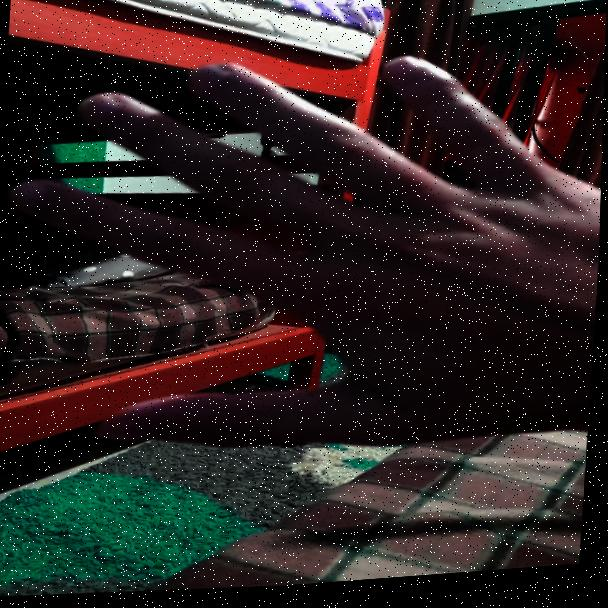five: (0, 29, 599, 490)
